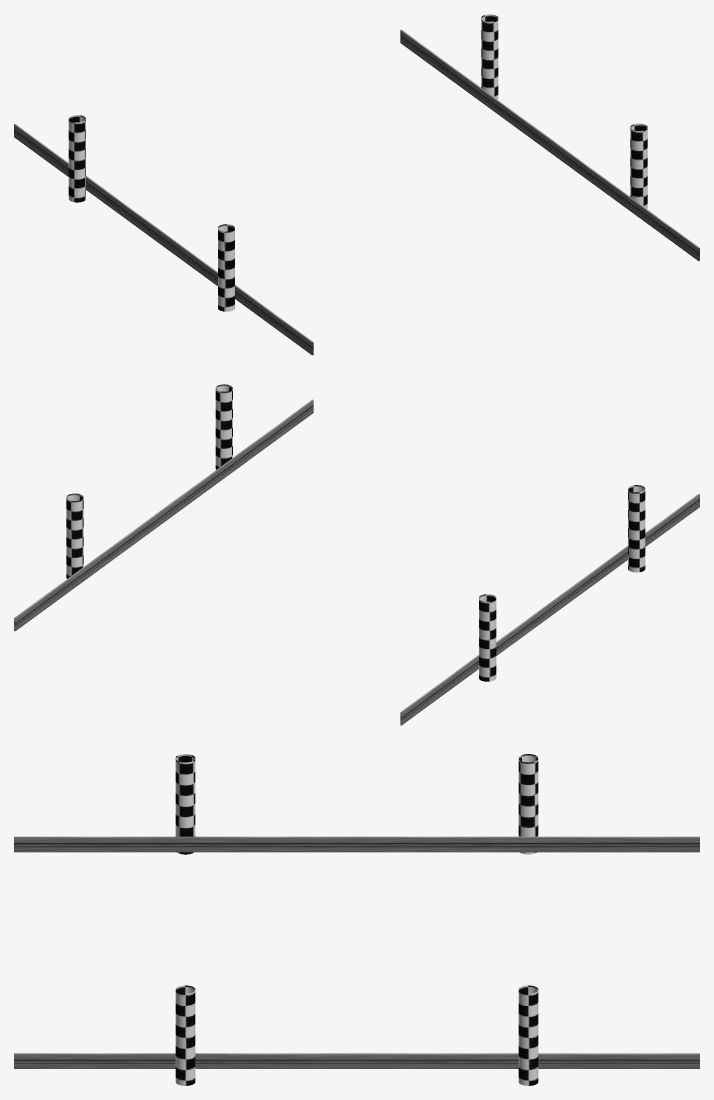
The model's file is guard_vs3.FBX.
The picture shows the model from 3 angles, top to bottom: view 1: azimuth 30°, elevation 25°; view 2: azimuth 150°, elevation 25°; view 3: azimuth 270°, elevation 25°; orthographic projection. The views are drawn at different scales.
Parts seen in each view (by area): view 1: Object008; view 2: Object008; view 3: Object008.
Boxes of the visible parts, x1,y1,x2,y2 form: Object008: [14, 14, 699, 355]; Object008: [14, 384, 699, 725]; Object008: [14, 754, 699, 1085].
Size of the model in its own units: 3310 by 592 by 4000.
